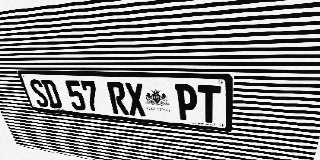5: (64, 80, 87, 111)
7: (79, 81, 102, 113)
D: (40, 79, 63, 109)
P: (175, 84, 198, 122)
R: (106, 82, 129, 115)
S: (28, 79, 50, 108)
T: (197, 85, 221, 124)
X: (124, 82, 147, 117)
